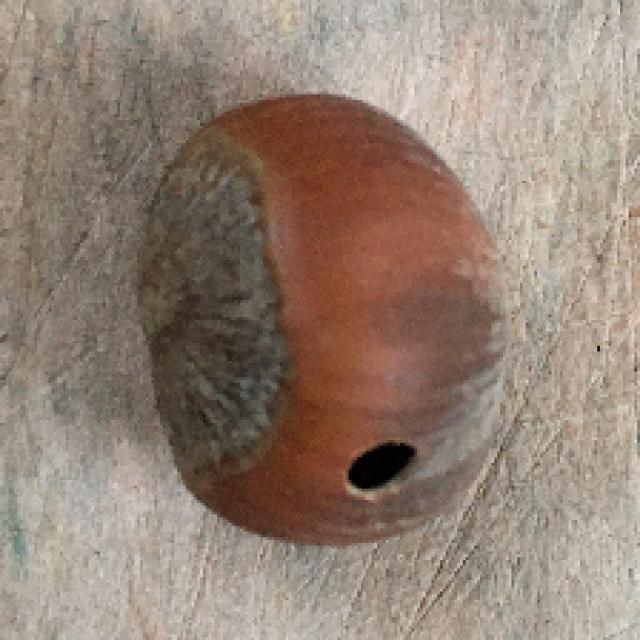damagedHazelnut: (136, 88, 534, 550)
